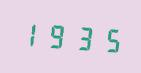five: (96, 21, 121, 56)
nine: (44, 18, 69, 52)
one: (18, 16, 43, 51)
three: (70, 20, 95, 54)
